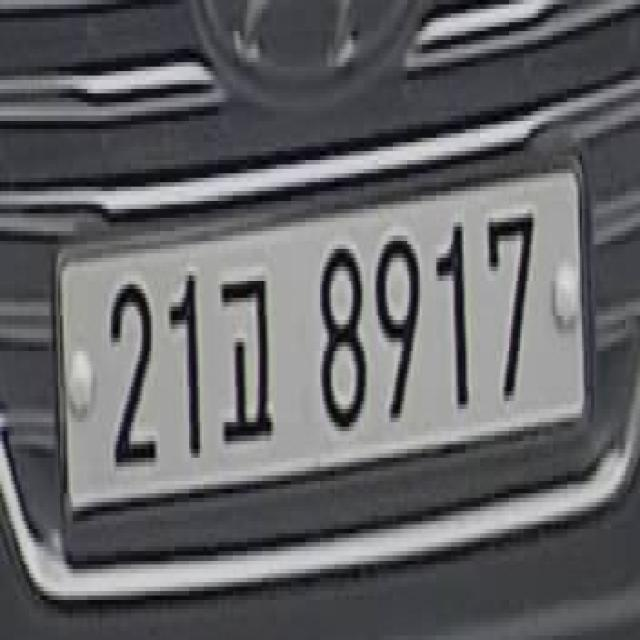plat: (52, 153, 591, 524)
